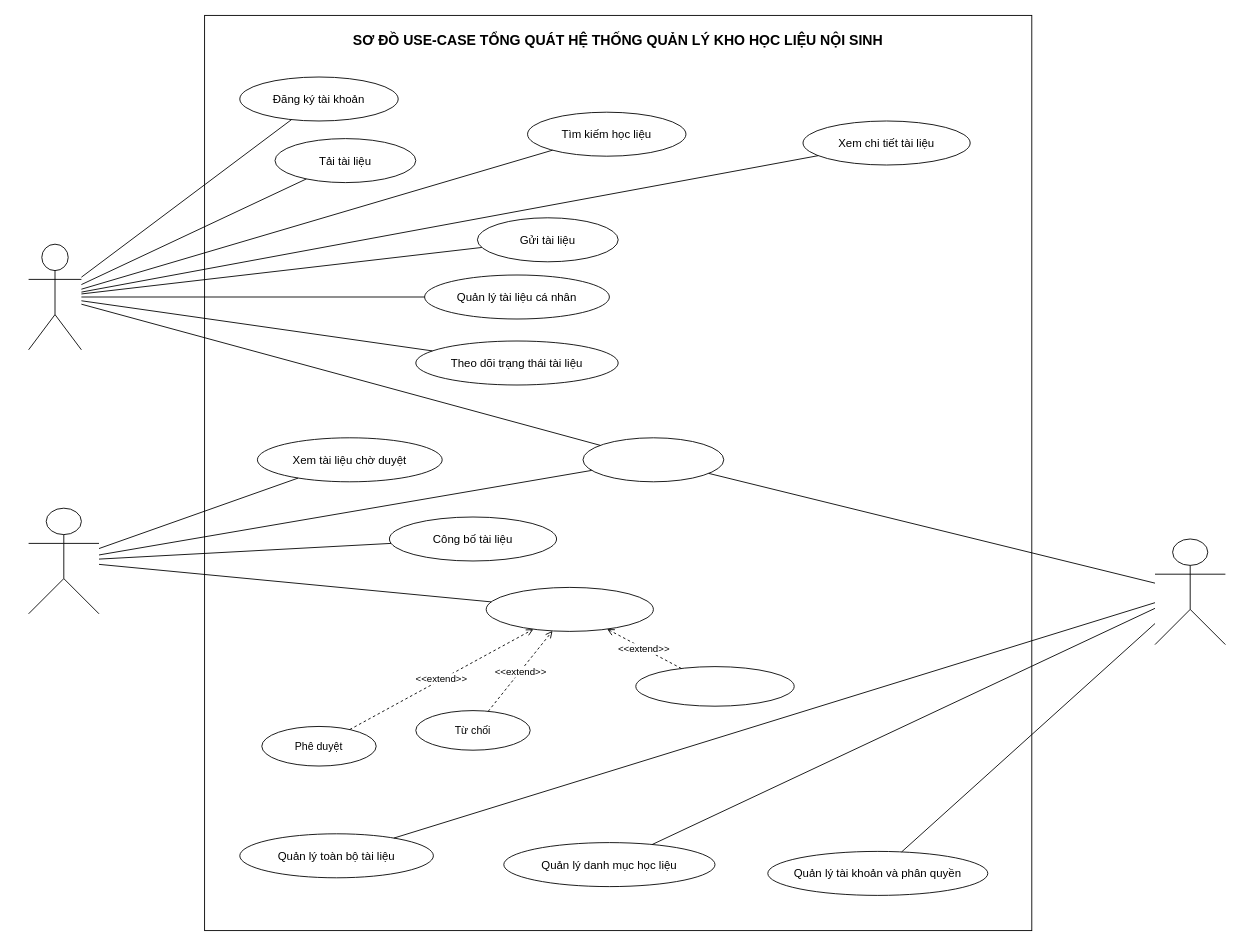
Some shapes in this 1241 by 946 pixel diagram are drawn without their labels. The shapes that lost their labels are listed below. From the top down, each one's centre as x and y in pixels, then its label:
At [54,296]: "Người dùng".
At [653,459]: "Đăng nhập".
At [63,560]: "Người kiểm duyệt".
At [569,609]: "Kiểm duyệt tài liệu".
At [1189,591]: "Quản trị viên".
At [714,686]: "Yêu cầu chỉnh sửa".
